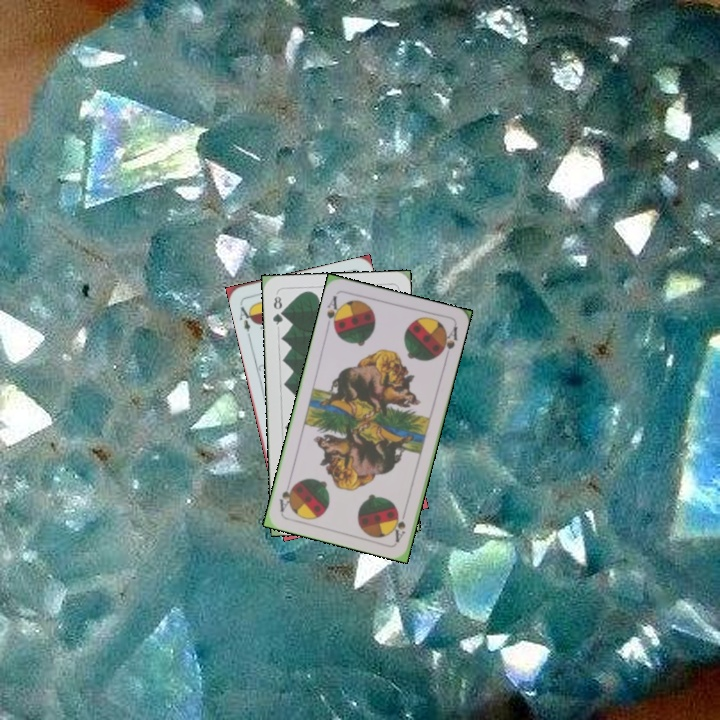EA: (235, 299, 257, 339)
G8: (268, 292, 286, 327)
SA: (322, 291, 344, 333), (390, 504, 409, 544)
